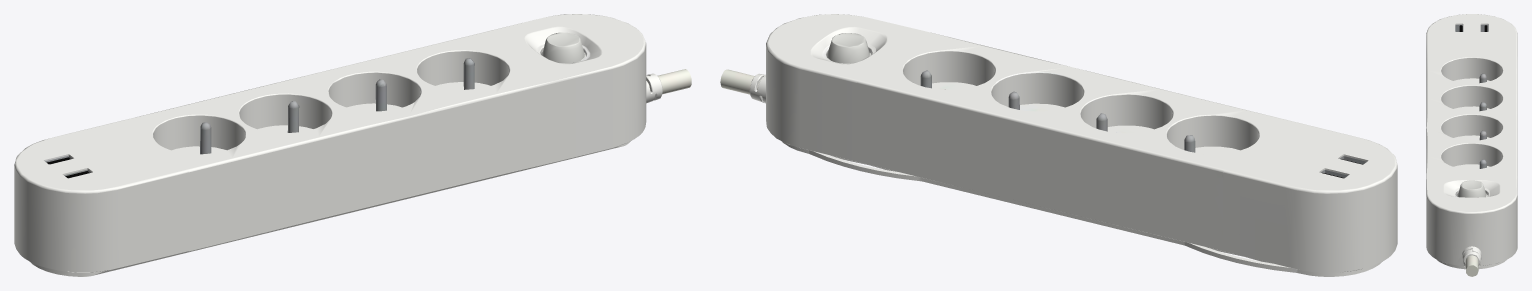
File: Koppla00314741.glb
The picture shows the model from 3 angles, left to right: view 1: azimuth 30°, elevation 25°; view 2: azimuth 150°, elevation 25°; view 3: azimuth 270°, elevation 25°; orthographic projection. The views are drawn at different scales.
Parts seen in each view (by area): view 1: 00314741-KOPPLA001; view 2: 00314741-KOPPLA001; view 3: 00314741-KOPPLA001.
Boxes of the visible parts, x1=… form: 00314741-KOPPLA001: x1=14, y1=14, x2=691, y2=276; 00314741-KOPPLA001: x1=720, y1=14, x2=1397, y2=276; 00314741-KOPPLA001: x1=1426, y1=14, x2=1517, y2=276.
Size of the model in its own units: 0.3246 by 0.0448 by 0.0582.
Materials: 1 (1 with a texture image).
